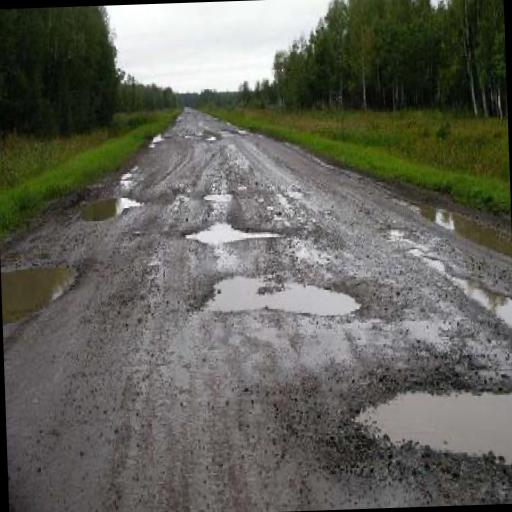pothole: (348, 375, 512, 476), (186, 264, 365, 322), (1, 255, 84, 321), (182, 216, 284, 247), (77, 186, 145, 224), (201, 186, 235, 204), (148, 130, 166, 148)
